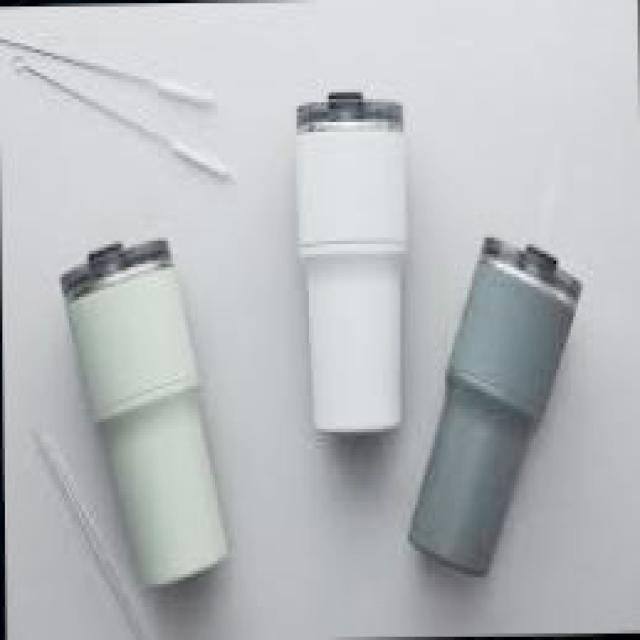bottle: (400, 222, 591, 586), (54, 231, 240, 597), (285, 78, 409, 437)
